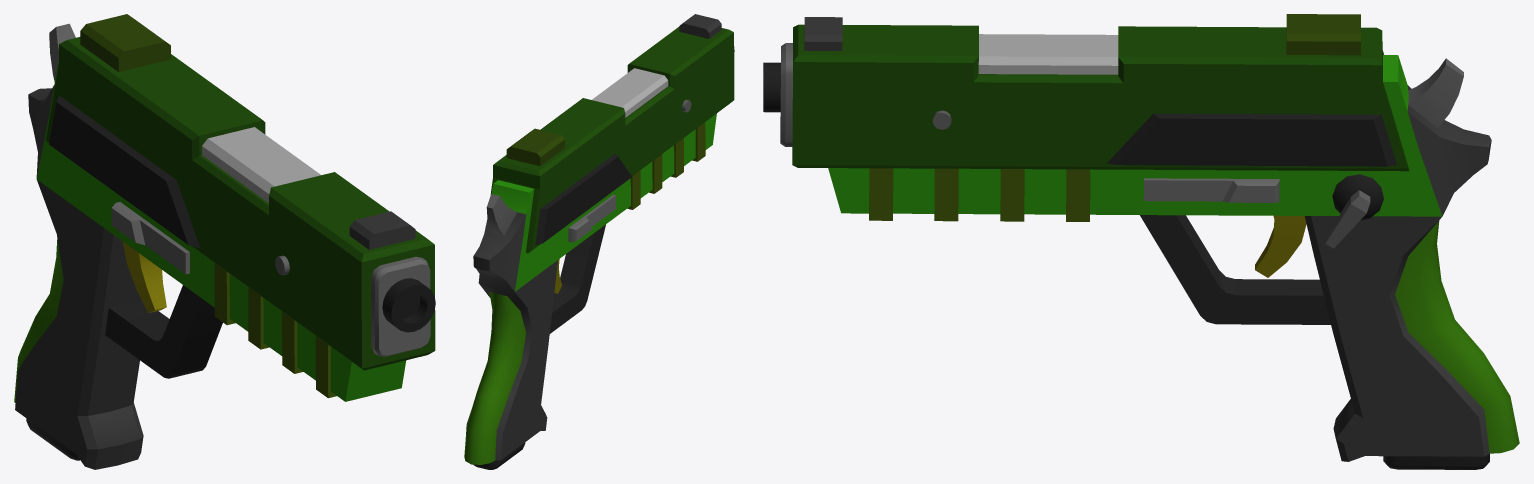
File: Pistol.fbx
The picture shows the model from 3 angles, left to right: view 1: azimuth 30°, elevation 25°; view 2: azimuth 150°, elevation 25°; view 3: azimuth 270°, elevation 25°; orthographic projection. The views are drawn at different scales.
Visible parts, largest first — view 1: Pistol; view 2: Pistol; view 3: Pistol.
Part boxes in pixels (<box>): Pistol: <box>14,14,435,469</box>; Pistol: <box>464,14,734,469</box>; Pistol: <box>763,14,1519,469</box>.
Size of the model in its own units: 8.26 by 57.13 by 36.5.
1 material, 1 textured.
